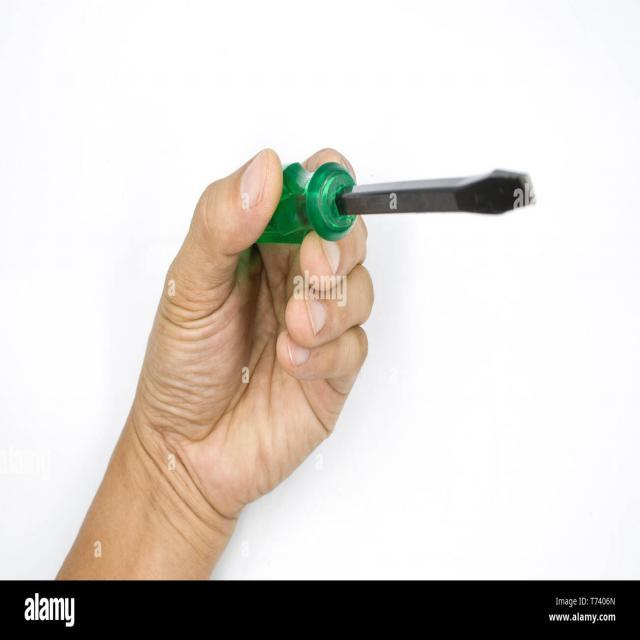screwdriver: (234, 152, 536, 248)
